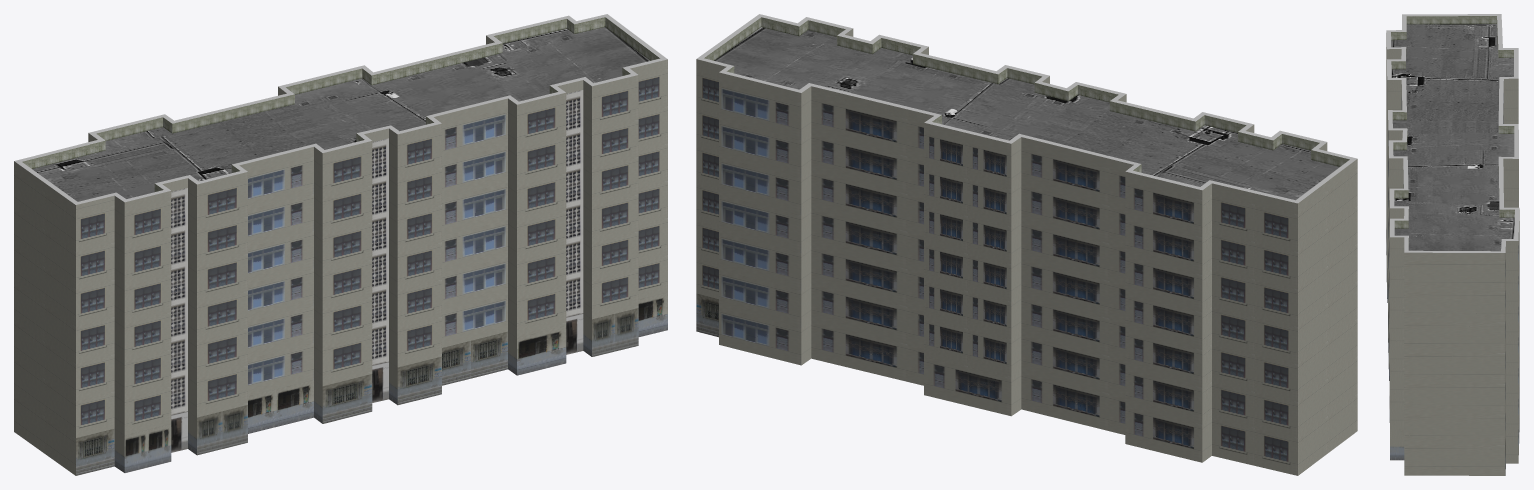
3 views of the same model, side by side, from view 1: azimuth 30°, elevation 25°; view 2: azimuth 150°, elevation 25°; view 3: azimuth 270°, elevation 25° (orthographic). The views are drawn at different scales.
Visible parts, largest first — view 1: jz10; view 2: jz10; view 3: jz10.
Part boxes in pixels (x1=…): jz10: x1=14, y1=14, x2=667, y2=475; jz10: x1=696, y1=14, x2=1357, y2=475; jz10: x1=1386, y1=14, x2=1519, y2=475.
Bounding box in the file's own units: 4949 × 2150 × 1164.
12 materials, 12 textured.
